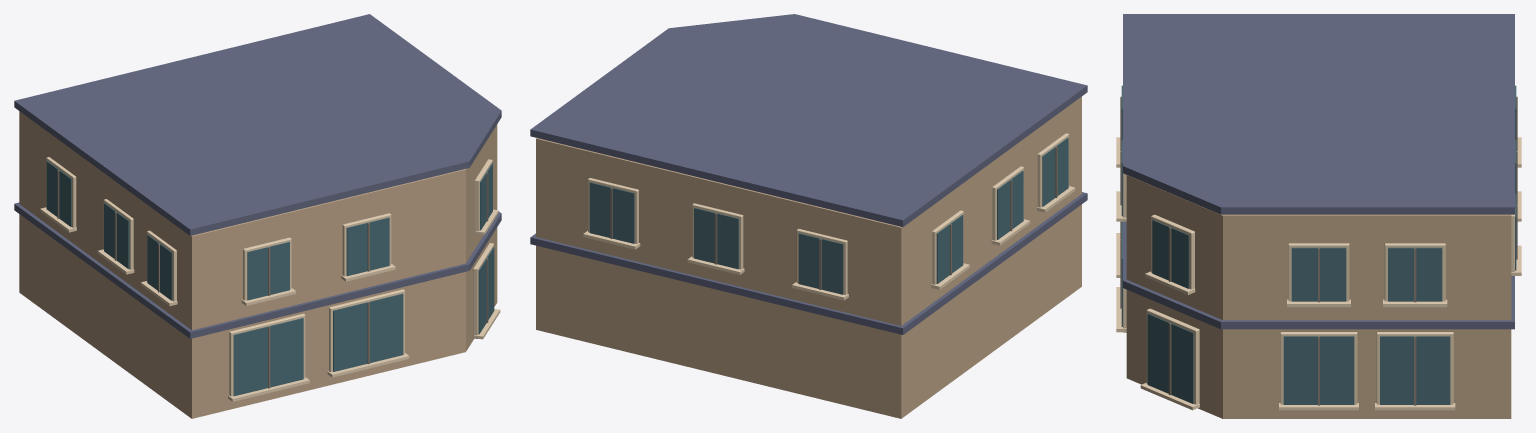
The model's file is corner-shop.glb.
3 renders of one model, left to right at view 1: azimuth 30°, elevation 25°; view 2: azimuth 150°, elevation 25°; view 3: azimuth 270°, elevation 25°, orthographic. The views are drawn at different scales.
Parts seen in each view (by area): view 1: corner-shop; view 2: corner-shop; view 3: corner-shop.
Part boxes in pixels (x1,y1,x2,y2): corner-shop: [14, 14, 501, 418]; corner-shop: [530, 14, 1087, 418]; corner-shop: [1116, 14, 1521, 418].
Size of the model in its own units: 14.64 by 7.35 by 12.64.
